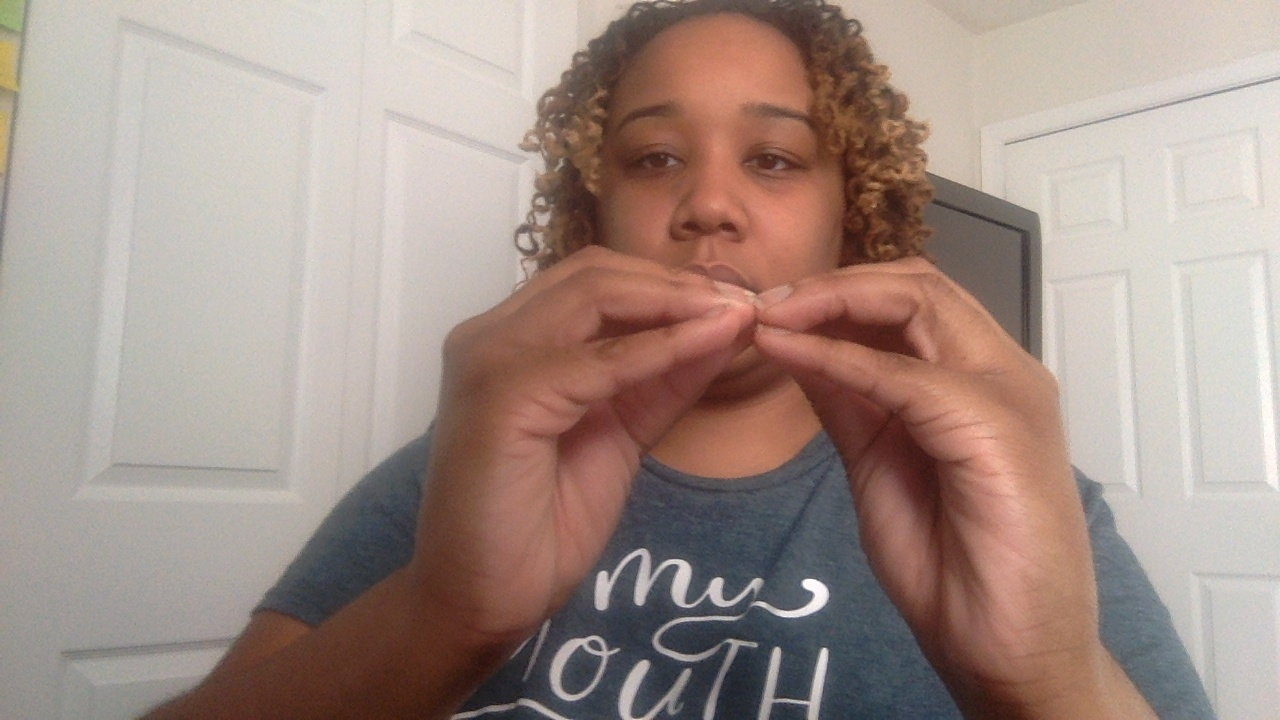more: (420, 243, 1135, 623)
